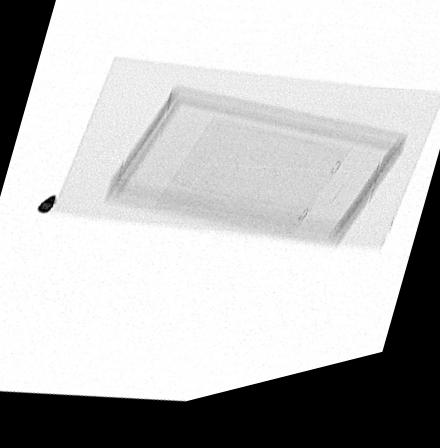Bullet: (36, 195, 55, 214)
